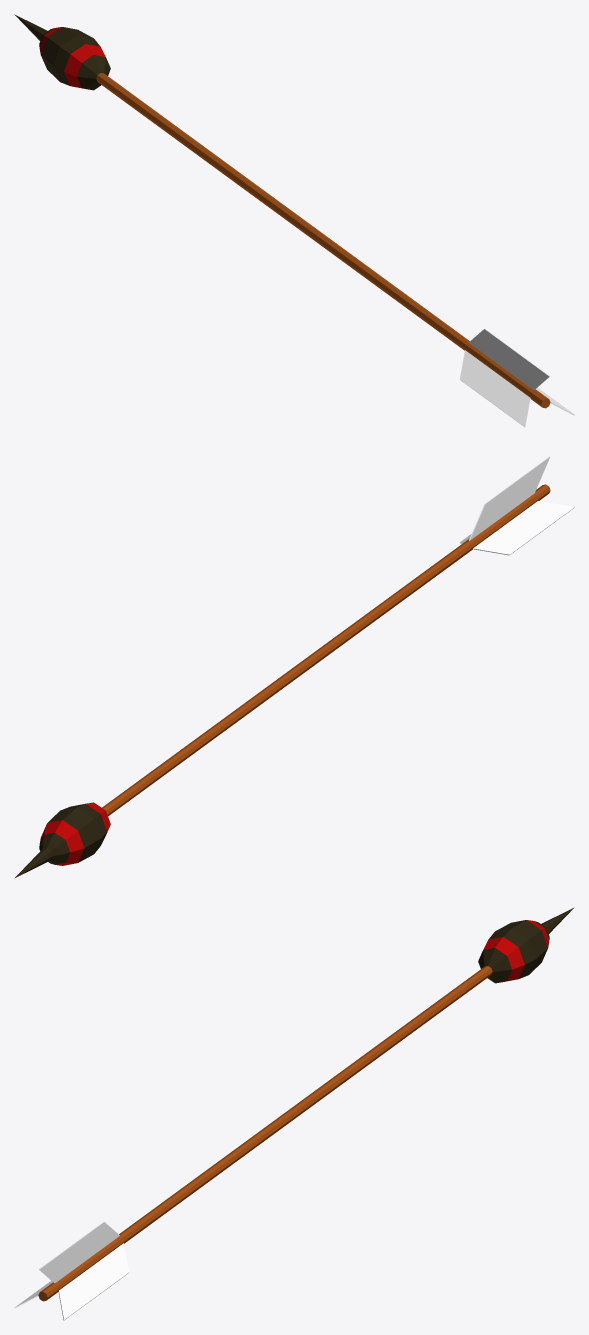
File: Arrow_02.fbx
3 renders of one model, top to bottom at view 1: azimuth 30°, elevation 25°; view 2: azimuth 150°, elevation 25°; view 3: azimuth 330°, elevation 25°, orthographic.
Parts seen in each view (by area): view 1: Arrow_02; view 2: Arrow_02; view 3: Arrow_02.
Boxes of the visible parts, bbox=[...] form: Arrow_02: bbox=[14, 14, 574, 427]; Arrow_02: bbox=[15, 456, 574, 877]; Arrow_02: bbox=[14, 907, 574, 1320].
Size of the model in its own units: 6.22 by 6.53 by 115.
